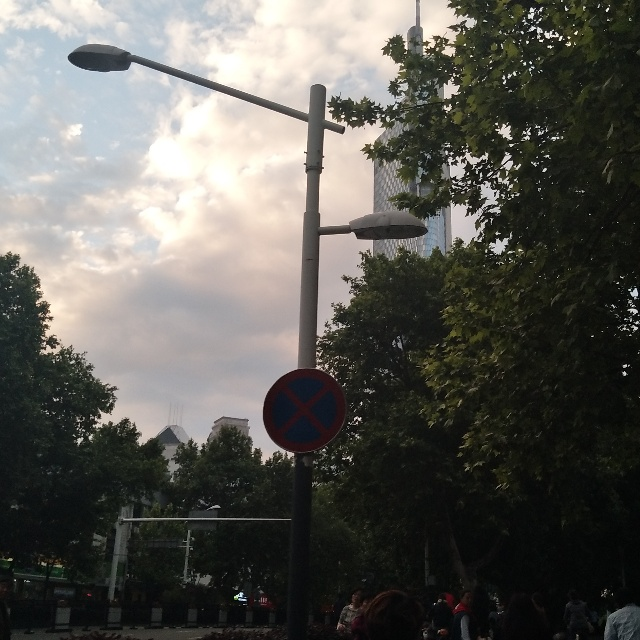stop: (266, 373, 343, 450)
